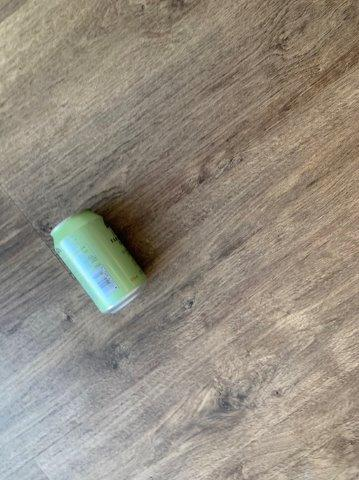kaleng: (51, 212, 145, 314)
